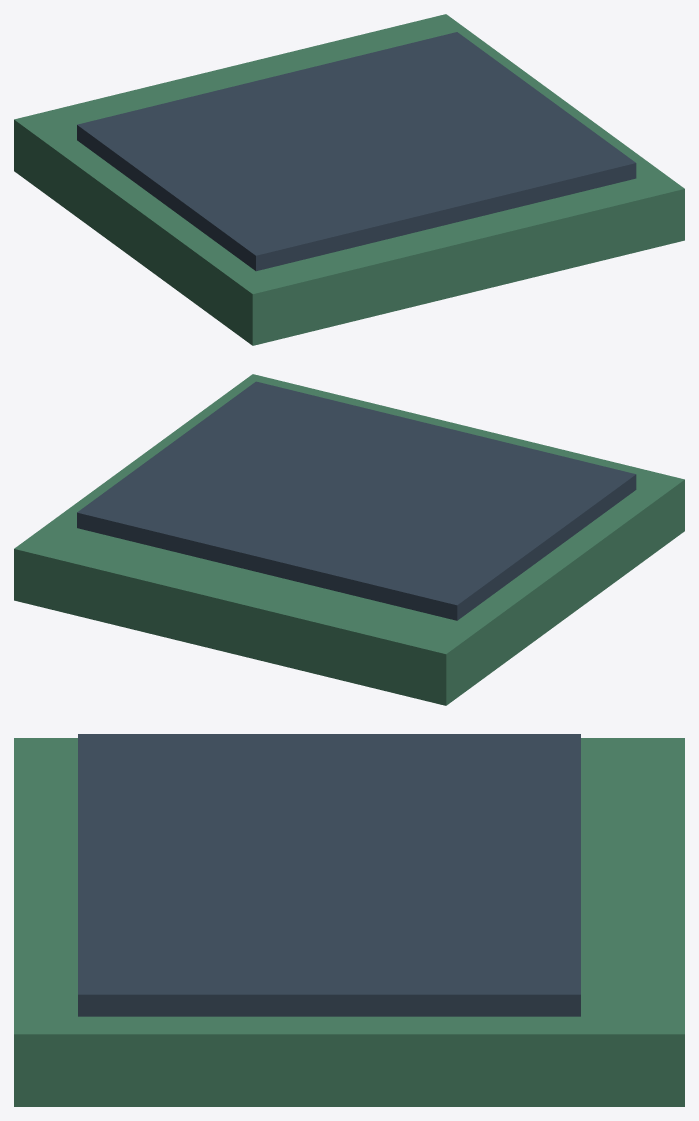
3 views of the same model, one above another, from view 1: azimuth 30°, elevation 25°; view 2: azimuth 150°, elevation 25°; view 3: azimuth 270°, elevation 25° (orthographic). The views are drawn at different scales.
Visible parts, largest first — view 1: sh1106-13-display, sh1106-13-pcb; view 2: sh1106-13-display, sh1106-13-pcb; view 3: sh1106-13-display, sh1106-13-pcb.
Part boxes in pixels (x1=…): sh1106-13-display: x1=77, y1=32, x2=636, y2=271; sh1106-13-pcb: x1=14, y1=14, x2=684, y2=345; sh1106-13-display: x1=77, y1=381, x2=636, y2=620; sh1106-13-pcb: x1=14, y1=374, x2=684, y2=705; sh1106-13-display: x1=78, y1=734, x2=580, y2=1016; sh1106-13-pcb: x1=14, y1=738, x2=684, y2=1106.
Size of the model in its own units: 0.035 by 0.0052 by 0.0335.
